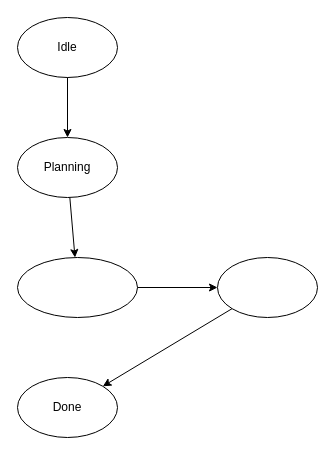
This 335x455 diagram has some shape labels left out. Here are the shapes that lost their labels. From the top down, the centre of each, then its label:
(x=77, y=287): Executing Tools
(x=267, y=287): Parallel
